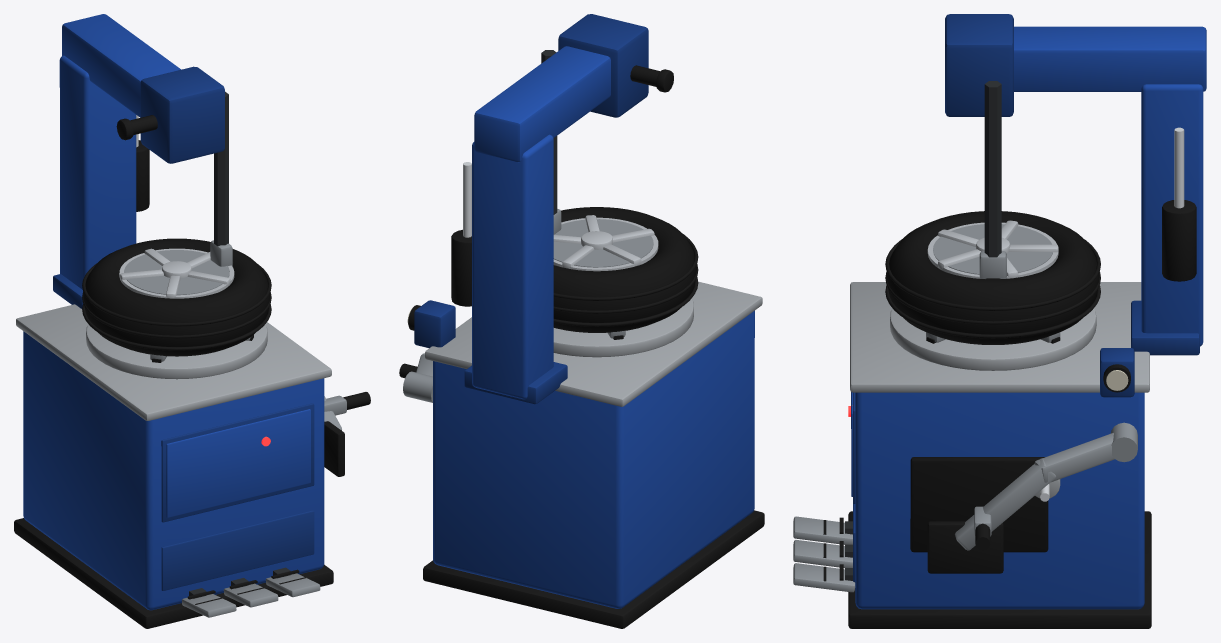
The model's file is tire-changer.glb.
The picture shows the model from 3 angles, left to right: view 1: azimuth 30°, elevation 25°; view 2: azimuth 150°, elevation 25°; view 3: azimuth 270°, elevation 25°; orthographic projection. The views are drawn at different scales.
Visible parts, largest first — view 1: Body, Turntable; view 2: Body, Turntable; view 3: Body, Turntable.
Boxes of the visible parts, x1,y1,x2,y2 form: Body: (14, 14, 370, 628); Turntable: (82, 238, 271, 379); Body: (399, 14, 764, 628); Turntable: (553, 207, 698, 357); Body: (793, 14, 1206, 628); Turntable: (885, 211, 1100, 370).
Bounding box in the file's own units: 1.07 × 1.76 × 1.2.
